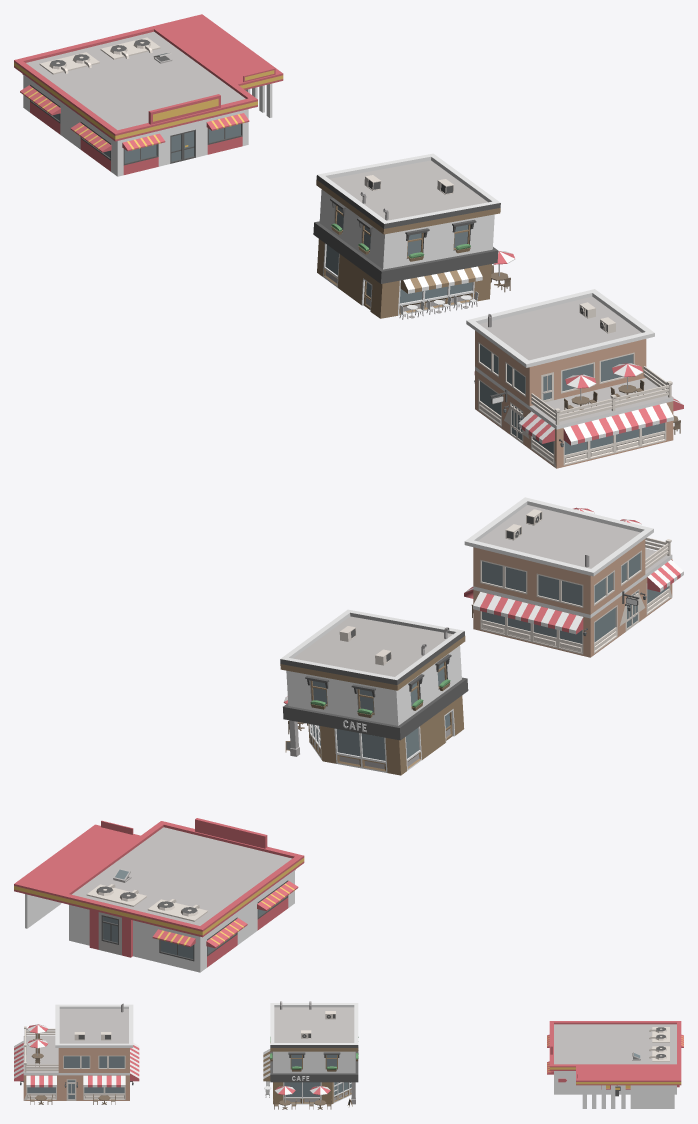
Rendered from Cafes.fbx.
3 renders of one model, top to bottom at view 1: azimuth 30°, elevation 25°; view 2: azimuth 150°, elevation 25°; view 3: azimuth 270°, elevation 25°, orthographic. The views are drawn at different scales.
Visible parts, largest first — view 1: building-burger-joint, building-restaurant (1), building-cafe; view 2: building-burger-joint, building-restaurant (1), building-cafe; view 3: building-burger-joint, building-restaurant (1), building-cafe, building-restaurant (1).001.
Part boxes in pixels (box(x1,y1,x2,y2)): building-burger-joint: box(14, 14, 283, 176); building-restaurant (1): box(466, 289, 683, 468); building-cafe: box(313, 153, 500, 319); building-burger-joint: box(14, 818, 304, 972); building-restaurant (1): box(464, 497, 683, 657); building-cafe: box(280, 609, 468, 775); building-burger-joint: box(547, 1021, 683, 1108); building-restaurant (1): box(14, 1003, 139, 1104); building-cafe: box(263, 1001, 358, 1106); building-restaurant (1).001: box(273, 1086, 331, 1109).
Bounding box in the file's own units: 1697 × 905 × 7628.
